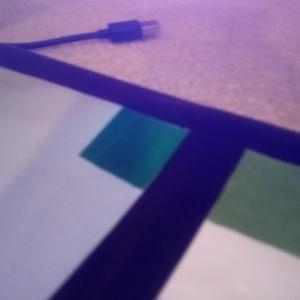bottom_left: (80, 106, 213, 190)
bottom_right: (187, 133, 299, 257)
